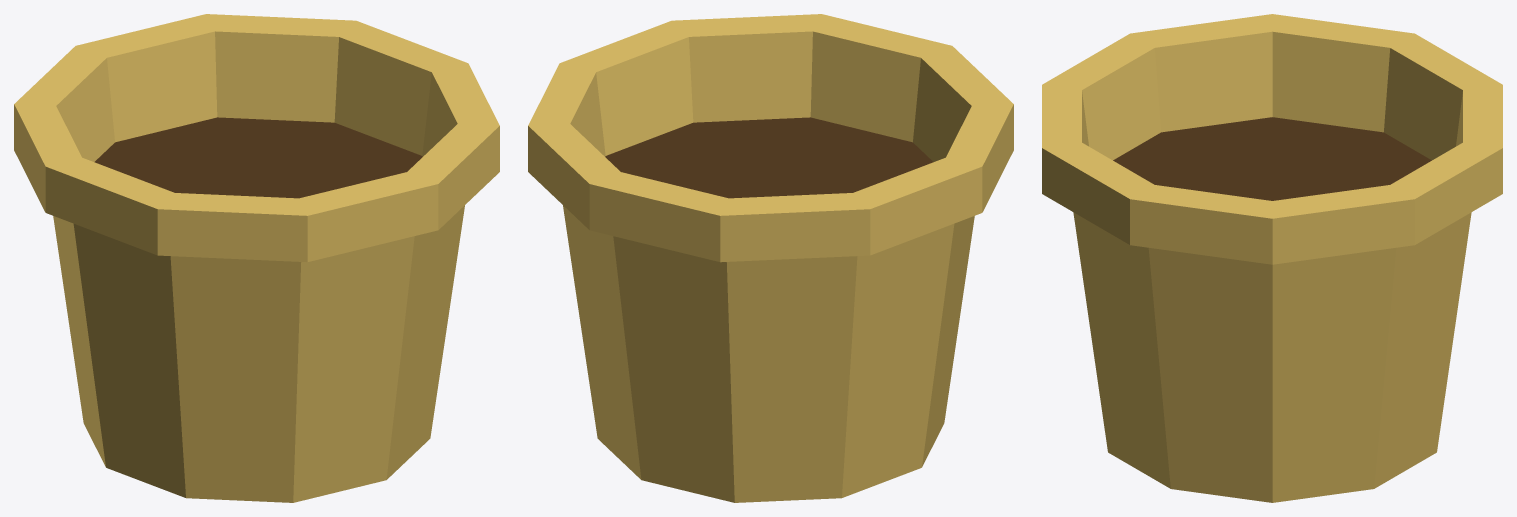
Rendered from fbx_club_plantpot.fbx.
3 views of the same model, side by side, from view 1: azimuth 30°, elevation 25°; view 2: azimuth 150°, elevation 25°; view 3: azimuth 270°, elevation 25° (orthographic).
Visible parts, largest first — view 1: fbx_club_plantpot; view 2: fbx_club_plantpot; view 3: fbx_club_plantpot.
Part boxes in pixels (x1=…): fbx_club_plantpot: x1=14, y1=14, x2=499, y2=502; fbx_club_plantpot: x1=528, y1=14, x2=1013, y2=502; fbx_club_plantpot: x1=1042, y1=14, x2=1502, y2=502.
Bounding box in the file's own units: 0.4943 × 0.3529 × 0.4701.
1 material, 1 textured.
